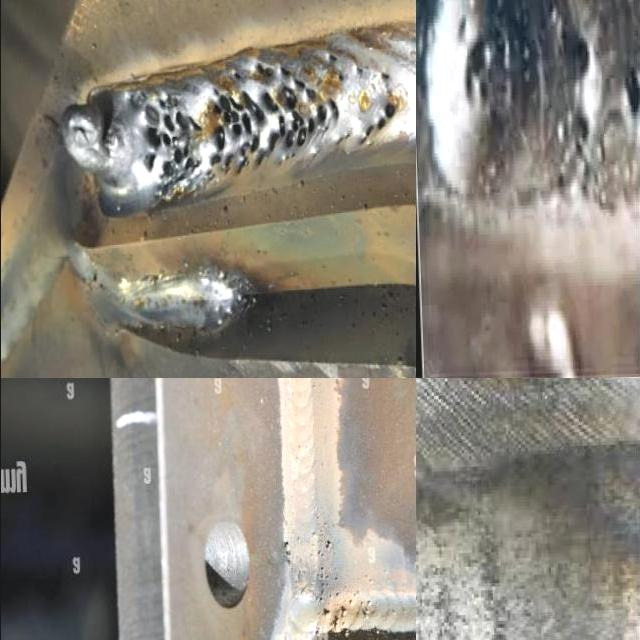defect: (205, 59, 337, 181), (136, 92, 206, 200), (450, 3, 515, 119), (550, 100, 595, 211), (355, 95, 405, 156), (315, 591, 373, 632), (619, 63, 640, 145), (572, 28, 595, 86), (314, 566, 340, 603), (329, 129, 349, 152), (374, 65, 393, 86), (327, 49, 341, 65), (325, 539, 336, 556), (282, 540, 291, 556), (355, 65, 367, 77), (336, 73, 346, 87), (310, 531, 319, 543), (316, 550, 325, 560)
